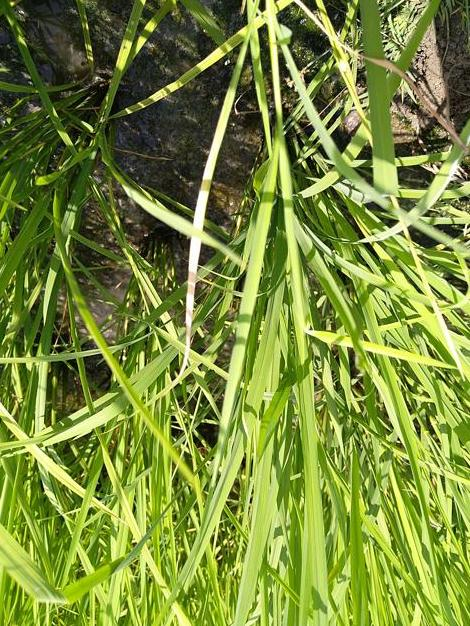Leaf Blight: (192, 40, 248, 230), (173, 235, 202, 386)
